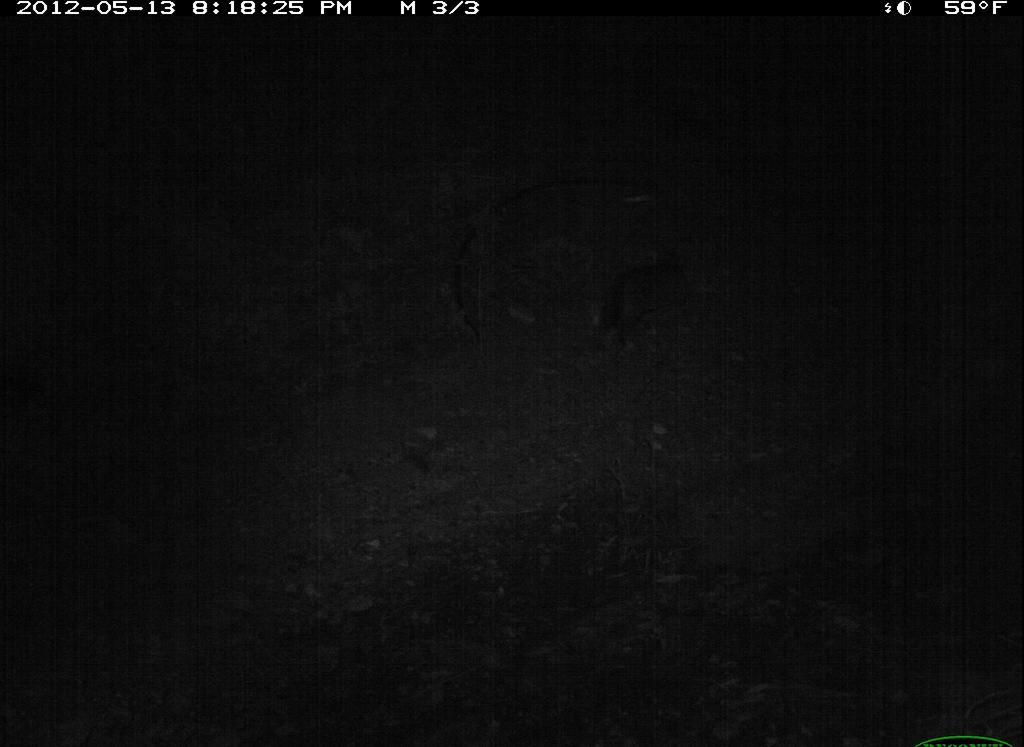cat: (390, 109, 753, 396)
